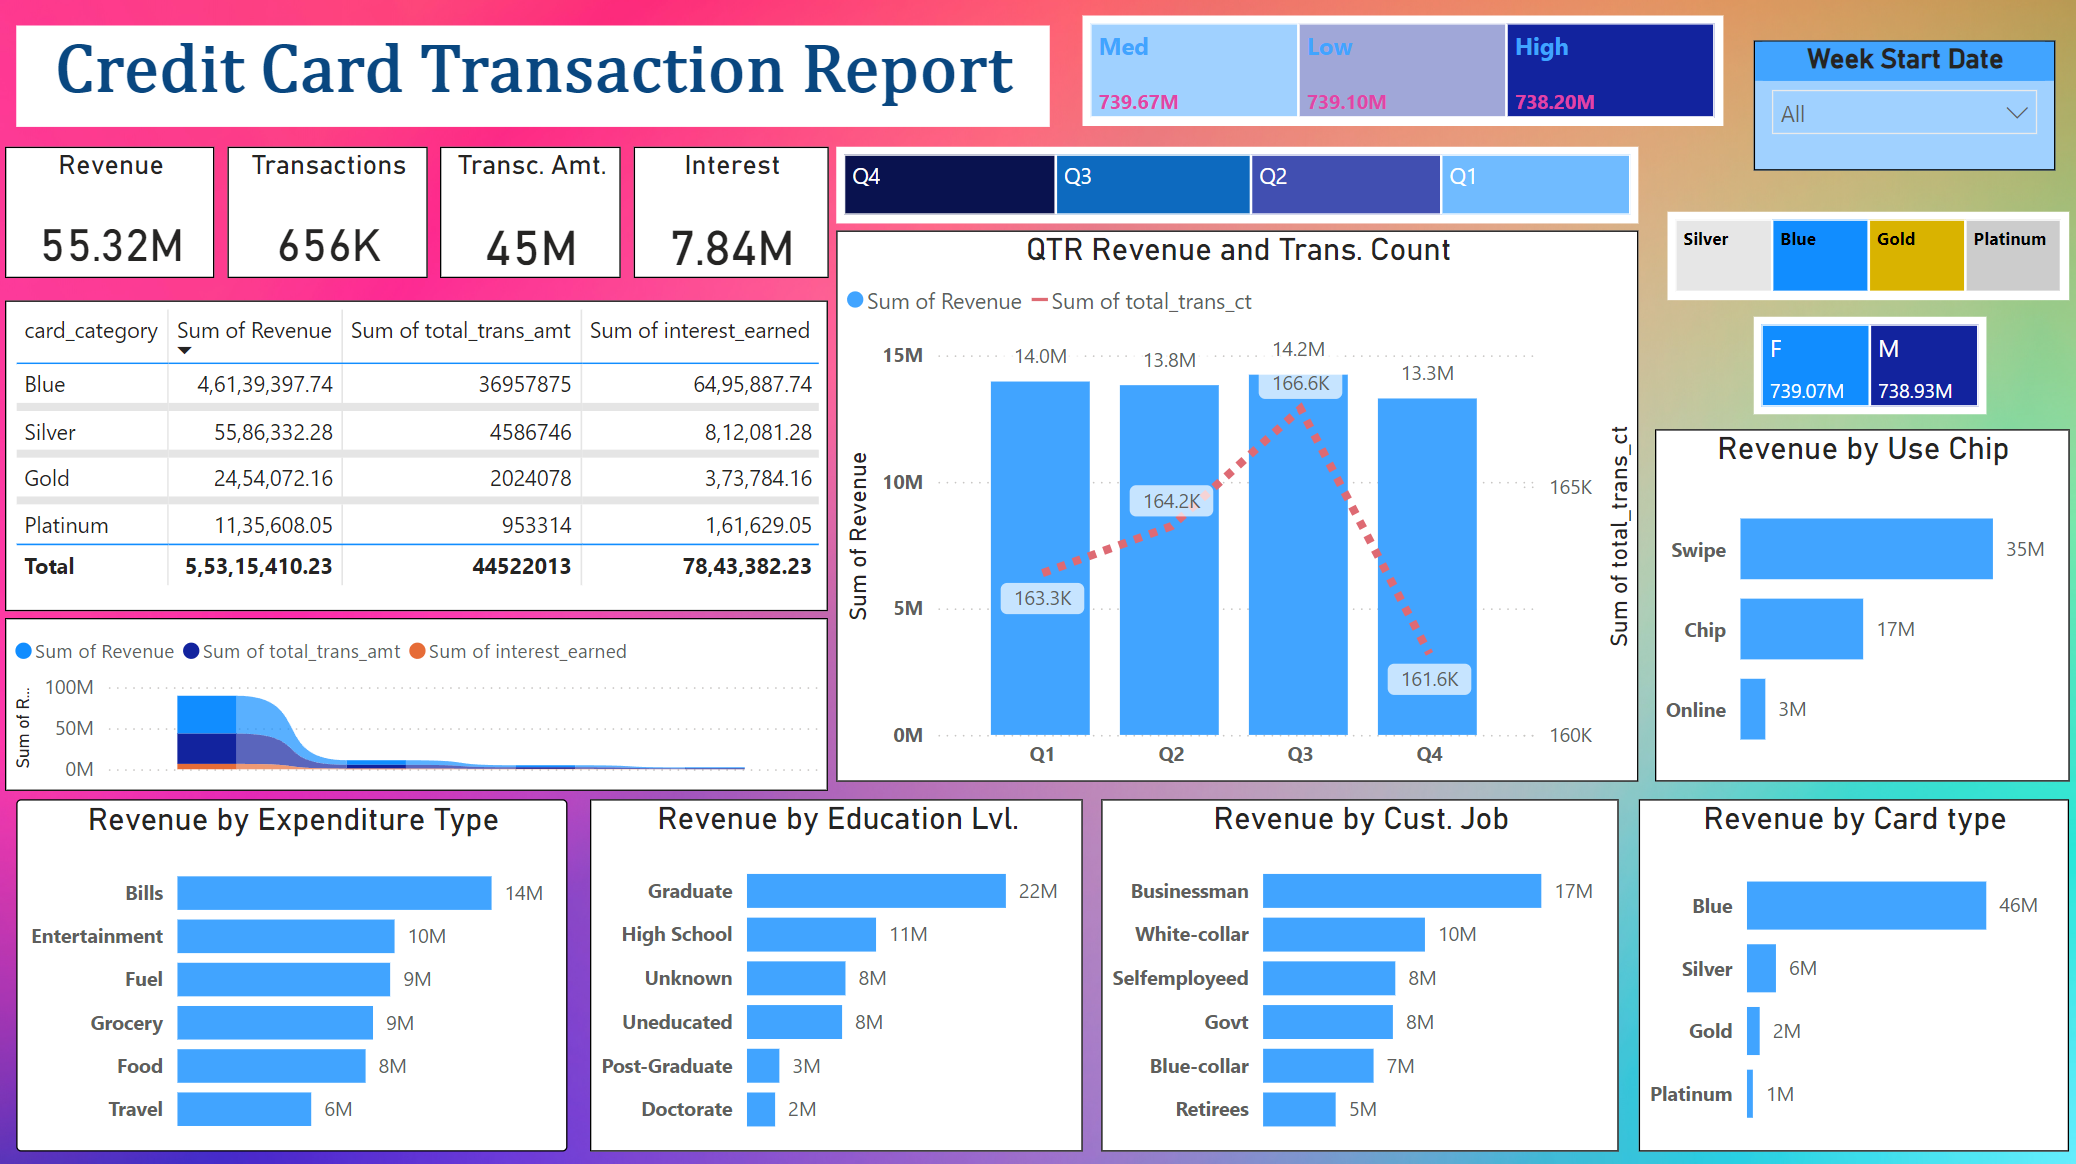

This screenshot's page, from the dashboard's own definition file:
{"tool":"powerbi","page":{"name":"CC Transc. ","canvas":[1280,720],"ordinal":0},"visuals":[{"type":"textbox","box":[10.1,16.8,636.3,62],"z":0},{"type":"lineStackedColumnComboChart","title":"QTR Revenue and Trans. Count","fields":{"Category":["public cc_detail.qtr"],"Y":["Sum(public cc_detail.Revenue)"],"Y2":["Sum(public cc_detail.total_trans_ct)"]},"box":[514.8,143.4,493.8,339.5],"z":1000},{"type":"barChart","title":"Revenue by Expenditure Type","fields":{"Y":["Sum(public cc_detail.Revenue)"],"Category":["public cc_detail.exp_type"]},"box":[10.1,493,339.5,217.1],"z":2000},{"type":"barChart","title":"Revenue by Education Lvl.","fields":{"Y":["Sum(public cc_detail.Revenue)"],"Category":["public cust_detail.education_level"]},"box":[363,493,303.5,217.1],"z":3000},{"type":"barChart","title":"Revenue by Cust. Job","fields":{"Y":["Sum(public cc_detail.Revenue)"],"Category":["public cust_detail.customer_job"]},"box":[677.4,493,318.6,217.1],"z":4000},{"type":"barChart","title":"Revenue by Card type","fields":{"Y":["Sum(public cc_detail.Revenue)"],"Category":["public cc_detail.card_category"]},"box":[1008.5,493,264.9,217.1],"z":5000},{"type":"barChart","title":"Revenue by Use Chip","fields":{"Y":["Sum(public cc_detail.Revenue)"],"Category":["public cc_detail.use_chip"]},"box":[1018.6,265.8,254.9,217.1],"z":6000},{"type":"tableEx","fields":{"Values":["public cc_detail.card_category","Sum(public cc_detail.Revenue)","Sum(public cc_detail.total_trans_amt)","Sum(public cc_detail.interest_earned)"]},"box":[3.4,186.1,506.4,191.1],"z":7000},{"type":"cardVisual","title":"Revenue","fields":{"Data":["Sum(public cc_detail.Revenue)"]},"box":[3.4,91.4,129.1,80.5],"z":8000},{"type":"cardVisual","title":"Transactions","fields":{"Data":["Sum(public cc_detail.total_trans_ct)"]},"box":[140,91.4,123.2,80.5],"z":9000},{"type":"cardVisual","title":"Interest","fields":{"Data":["Sum(public cc_detail.interest_earned)"]},"box":[389.8,91.4,119.9,80.5],"z":10000},{"type":"cardVisual","title":"Transc. Amt.","fields":{"Data":["Sum(public cc_detail.total_trans_amt)"]},"box":[270.8,91.4,111.5,80.5],"z":11000},{"type":"slicer","title":"Week Start Date","fields":{"Values":["public cc_detail.week_start_date"]},"box":[1079,26,185.3,79.6],"z":12000},{"type":"treemap","fields":{"Values":["Avg(public cc_detail.client_num)"],"Group":["public cc_detail.qtr"]},"box":[514.8,91.4,493.8,46.9],"z":13000},{"type":"treemap","fields":{"Values":["Avg(public cc_detail.client_num)"],"Group":["public cust_detail.gender"]},"box":[1079,196.2,143.4,60.4],"z":14000},{"type":"treemap","fields":{"Values":["Avg(public cc_detail.client_num)"],"Group":["public cc_detail.card_category"]},"box":[1026.1,131.6,247.3,54.5],"z":15000},{"type":"treemap","fields":{"Values":["Avg(public cc_detail.client_num)"],"Group":["public cust_detail.IncomeGroup"]},"box":[666.5,10.9,394,67.9],"z":16000},{"type":"ribbonChart","fields":{"Category":["public cc_detail.card_category"],"Y":["Sum(public cc_detail.Revenue)","Sum(public cc_detail.total_trans_amt)","Sum(public cc_detail.interest_earned)"]},"box":[3.4,381.5,506.4,106.5],"z":17000}]}

Visuals, with their boxes in screenshot pixels (x1, y1, x2, y2), scaled from the page's 1280x720 canvas onto the 2076x1164 screenshot:
textbox: rect(16, 27, 1048, 127)
"QTR Revenue and Trans. Count" lineStackedColumnComboChart: rect(835, 232, 1636, 781)
"Revenue by Expenditure Type" barChart: rect(16, 797, 567, 1148)
"Revenue by Education Lvl." barChart: rect(589, 797, 1081, 1148)
"Revenue by Cust. Job" barChart: rect(1099, 797, 1615, 1148)
"Revenue by Card type" barChart: rect(1636, 797, 2065, 1148)
"Revenue by Use Chip" barChart: rect(1652, 430, 2065, 781)
tableEx - public cc_detail.card_category x Sum(public cc_detail.Revenue): rect(6, 301, 827, 610)
"Revenue" cardVisual: rect(6, 148, 215, 278)
"Transactions" cardVisual: rect(227, 148, 427, 278)
"Interest" cardVisual: rect(632, 148, 827, 278)
"Transc. Amt." cardVisual: rect(439, 148, 620, 278)
"Week Start Date" slicer: rect(1750, 42, 2051, 171)
treemap - Avg(public cc_detail.client_num) x public cc_detail.qtr: rect(835, 148, 1636, 224)
treemap - Avg(public cc_detail.client_num) x public cust_detail.gender: rect(1750, 317, 1983, 415)
treemap - Avg(public cc_detail.client_num) x public cc_detail.card_category: rect(1664, 213, 2065, 301)
treemap - Avg(public cc_detail.client_num) x public cust_detail.IncomeGroup: rect(1081, 18, 1720, 127)
ribbonChart - public cc_detail.card_category x Sum(public cc_detail.Revenue): rect(6, 617, 827, 789)
